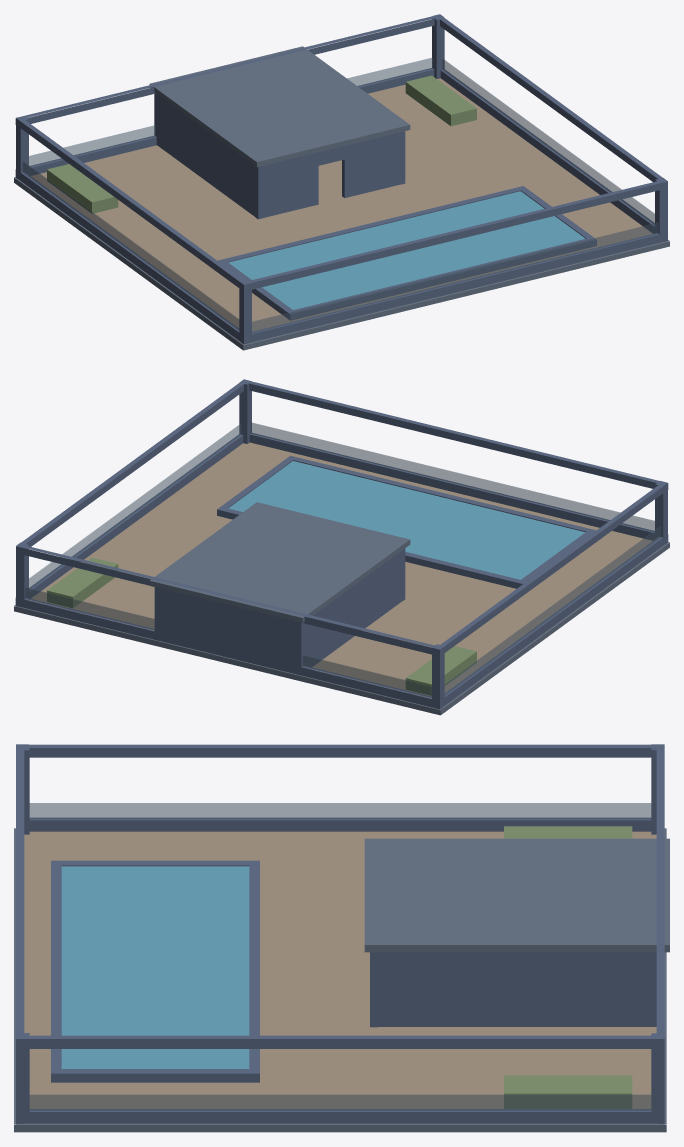
Rendered from office-roof-b.zfix-v5.lod1.glb.
3 renders of one model, top to bottom at view 1: azimuth 30°, elevation 25°; view 2: azimuth 150°, elevation 25°; view 3: azimuth 270°, elevation 25°, orthographic. The views are drawn at different scales.
Parts seen in each view (by area): view 1: office-roof-b; view 2: office-roof-b; view 3: office-roof-b.
Part boxes in pixels (x1=…): office-roof-b: x1=14, y1=14, x2=669, y2=350; office-roof-b: x1=14, y1=379, x2=669, y2=715; office-roof-b: x1=14, y1=744, x2=669, y2=1132.
Bounding box in the file's own units: 26.16 × 3.85 × 24.48.
